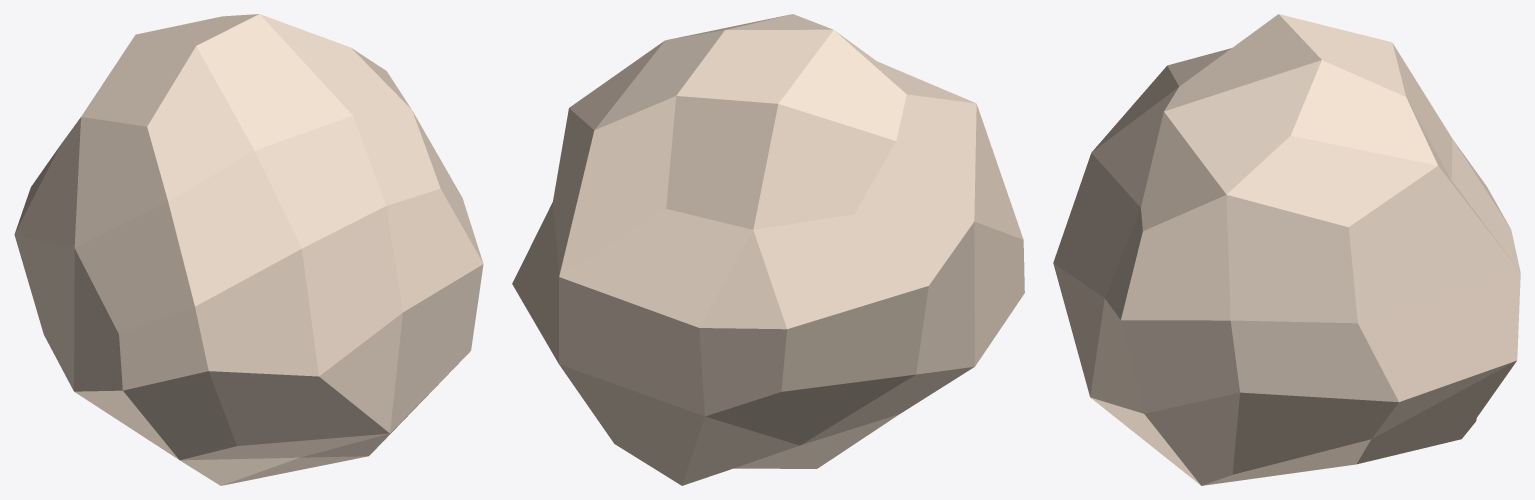
Rendered from resources-wool.glb.
3 views of the same model, side by side, from view 1: azimuth 30°, elevation 25°; view 2: azimuth 150°, elevation 25°; view 3: azimuth 270°, elevation 25° (orthographic). The views are drawn at different scales.
Parts seen in each view (by area): view 1: wool; view 2: wool; view 3: wool.
Boxes of the visible parts, x1,y1,x2,y2 form: wool: [14, 14, 483, 485]; wool: [512, 14, 1024, 485]; wool: [1053, 14, 1520, 485].
Size of the model in its own units: 0.1856 by 0.1986 by 0.1934.
